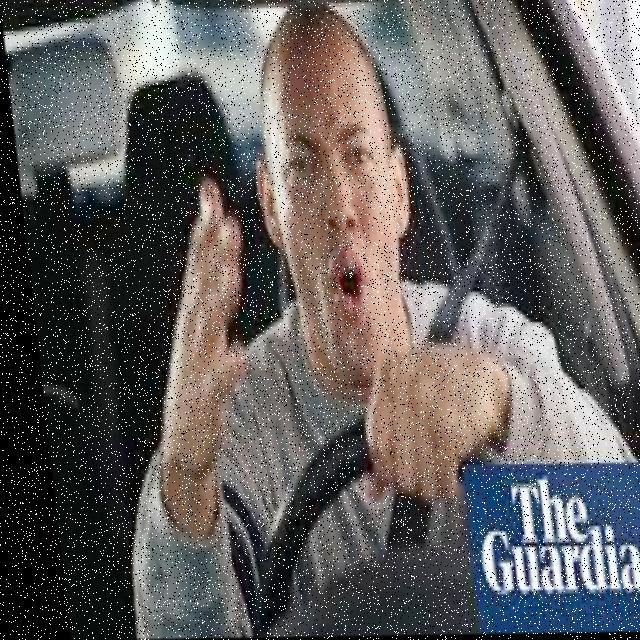seatbelt: (283, 168, 616, 544)
